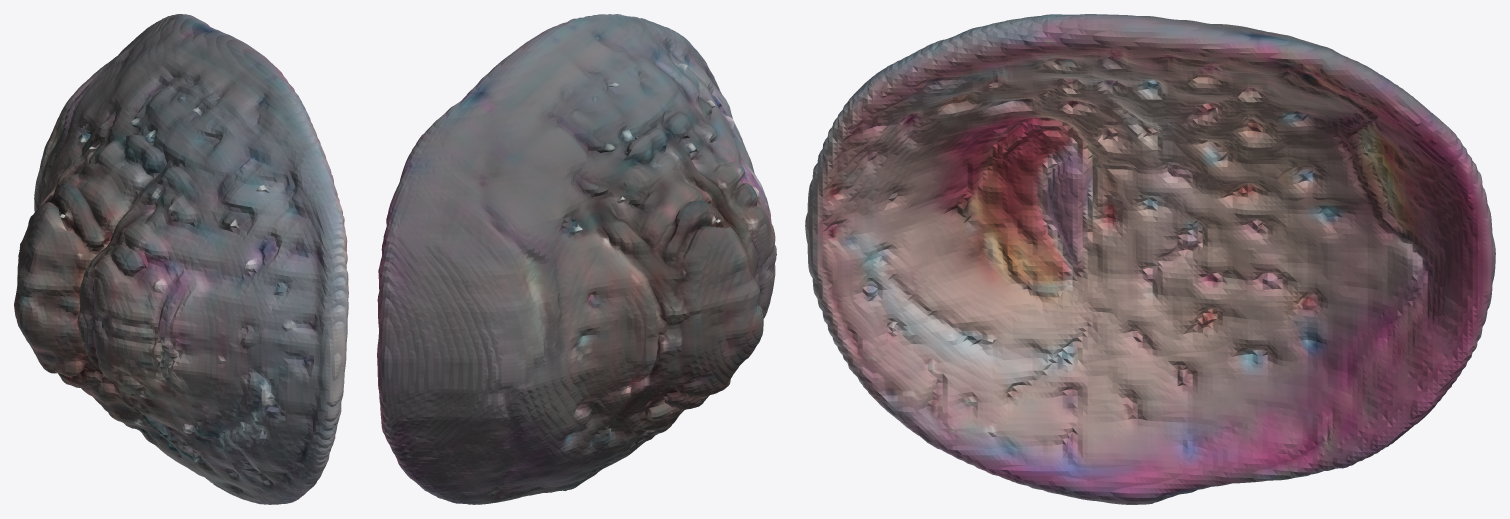
The picture shows the model from 3 angles, left to right: view 1: azimuth 30°, elevation 25°; view 2: azimuth 150°, elevation 25°; view 3: azimuth 270°, elevation 25°; orthographic projection. The views are drawn at different scales.
Visible parts, largest first — view 1: world; view 2: world; view 3: world.
Boxes of the visible parts, left/top/right/bottom form: world: left=14, top=14, right=348, bottom=504; world: left=377, top=14, right=776, bottom=504; world: left=805, top=14, right=1495, bottom=504.
Bounding box in the file's own units: 0.4763 × 0.7626 × 0.9428.
